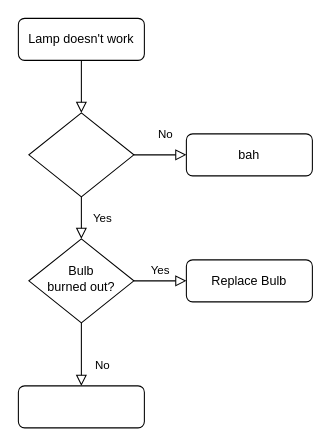
This 331x446 diagram has some shape labels left out. Here are the shapes that lost their labels. From the top down, the centre of each, then its label:
the point at 81,154: Lamp plugged in?
the point at 80,406: Repair Lamp
